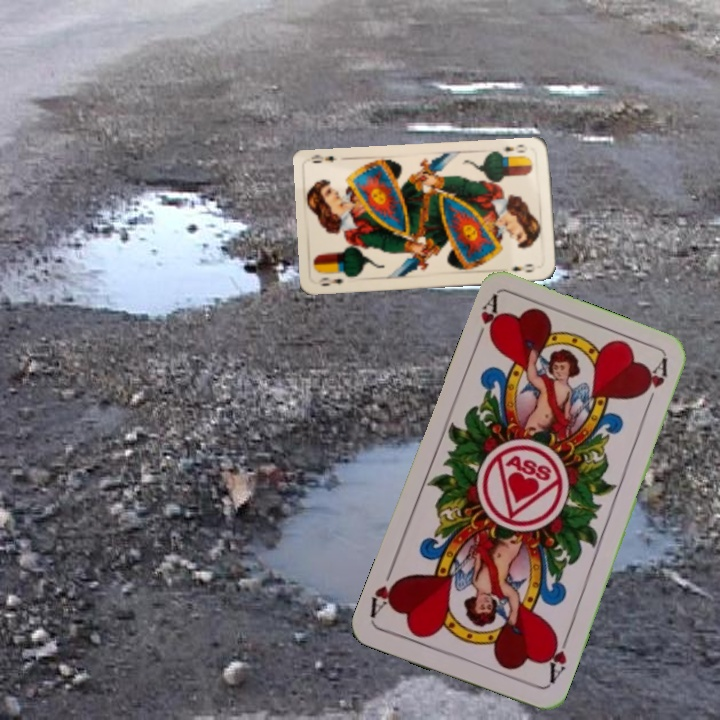EO: (313, 273, 345, 288), (499, 140, 528, 155)
HA: (471, 292, 506, 350), (542, 631, 572, 689)
